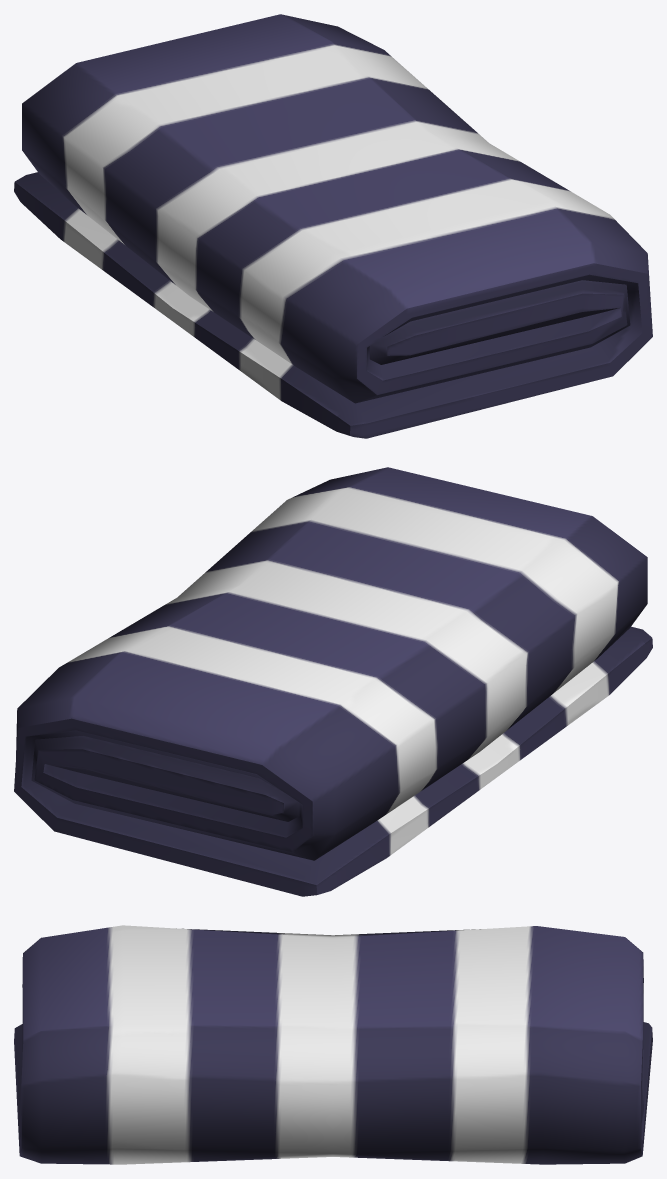
Rendered from housepack_towel_2.FBX.
3 views of the same model, one above another, from view 1: azimuth 30°, elevation 25°; view 2: azimuth 150°, elevation 25°; view 3: azimuth 270°, elevation 25° (orthographic). The views are drawn at different scales.
Parts seen in each view (by area): view 1: housepack_towel_2; view 2: housepack_towel_2; view 3: housepack_towel_2.
Boxes of the visible parts, bbox=[...] form: housepack_towel_2: bbox=[14, 14, 652, 438]; housepack_towel_2: bbox=[14, 467, 652, 896]; housepack_towel_2: bbox=[14, 925, 652, 1164].
Bounding box in the file's own units: 20.07 × 8.46 × 36.07.
